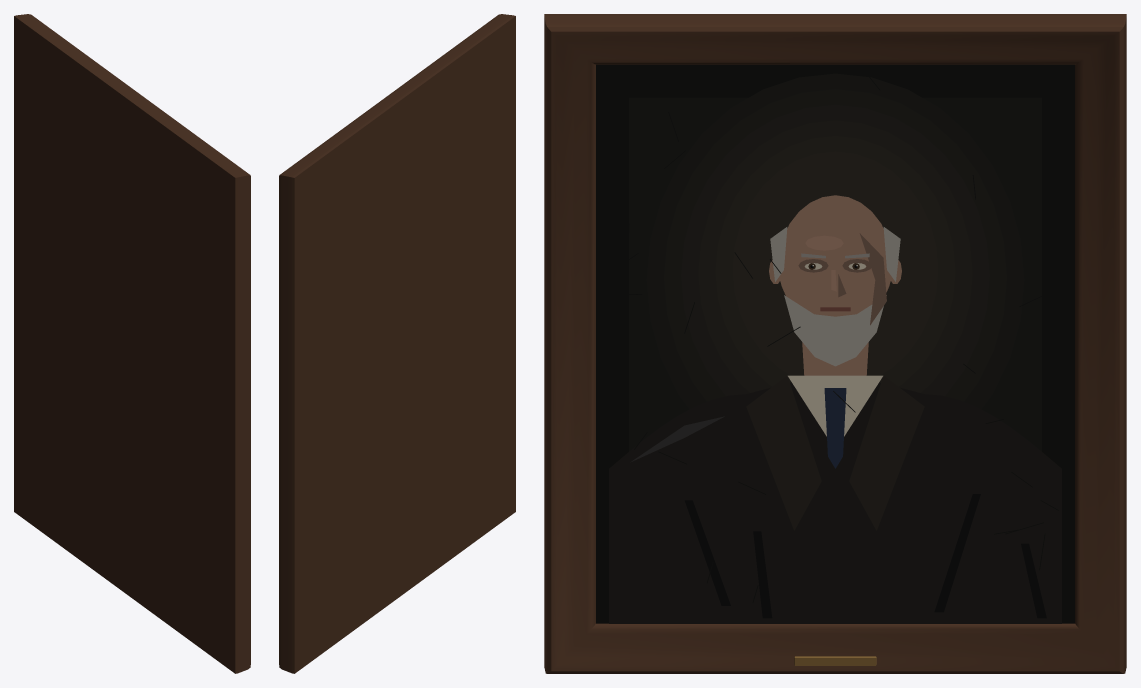
Rendered from painting_portrait@2.glb.
3 views of the same model, side by side, from view 1: azimuth 30°, elevation 25°; view 2: azimuth 150°, elevation 25°; view 3: azimuth 270°, elevation 25° (orthographic). The views are drawn at different scales.
Parts seen in each view (by area): view 1: rahmen; view 2: rahmen; view 3: rahmen, rock, firnis, leinwand, schein5, schein0, schein1, schein2, schein3, revers, schein4, gesicht (+7 smaller).
Boxes of the visible parts, <box> form: rahmen: <box>14,14,250,673</box>; rahmen: <box>279,14,515,673</box>; rahmen: <box>544,14,1126,673</box>; rock: <box>609,382,1061,623</box>; firnis: <box>596,64,1074,623</box>; leinwand: <box>629,97,1041,451</box>; schein5: <box>732,151,938,375</box>; schein0: <box>646,73,1024,409</box>; schein1: <box>664,89,1006,401</box>; schein2: <box>681,104,989,396</box>; schein3: <box>698,120,972,392</box>; revers: <box>746,375,924,530</box>; schein4: <box>715,136,955,386</box>; gesicht: <box>779,195,891,316</box>.
Size of the model in its own units: 0.04 by 1.05 by 0.848.
